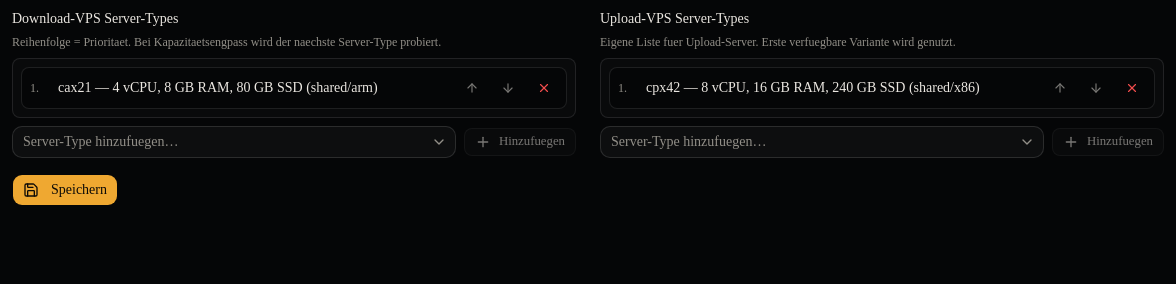
it: VpsServerTypesConfig › zeigt Validierungsfehler wenn Liste leer ist
This screenshot has width=1176, height=284.
Click the button named "cax21 entfernen" at (544, 88), box [530,74,558,102]
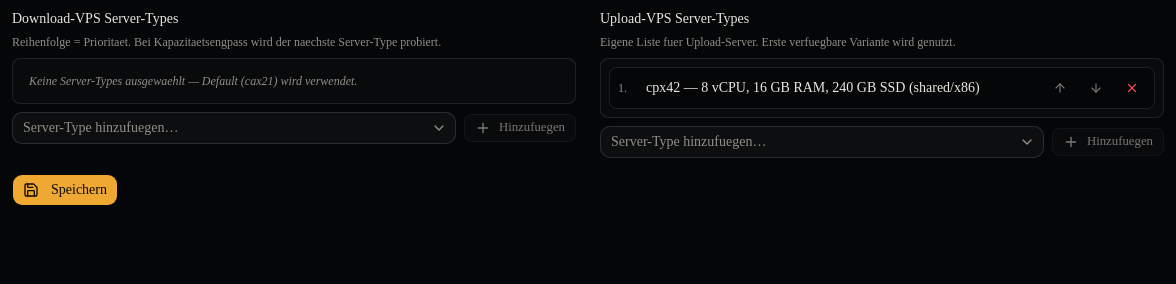
Click the button "Speichern" at (65, 190), box [12,174,118,206]
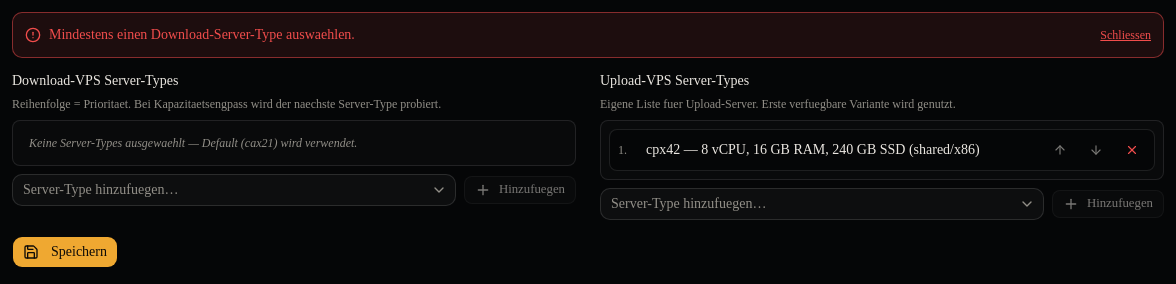
expect the text "Mindestens einen Download-Server-Type auswaehlen. Schliessen" is shown: met, box [12,12,1164,58]
